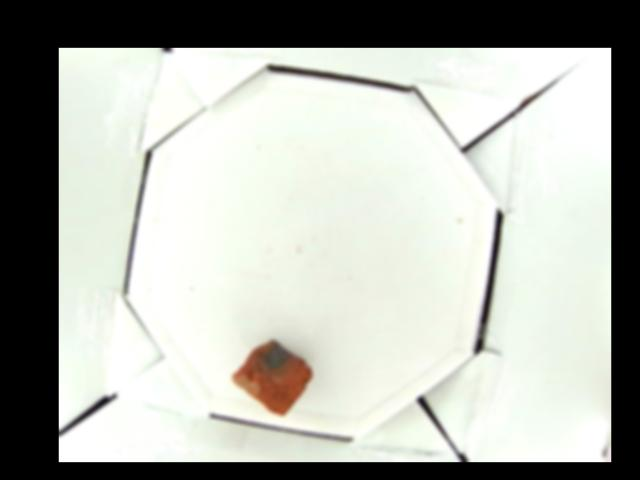Brisk: (230, 337, 314, 416)
